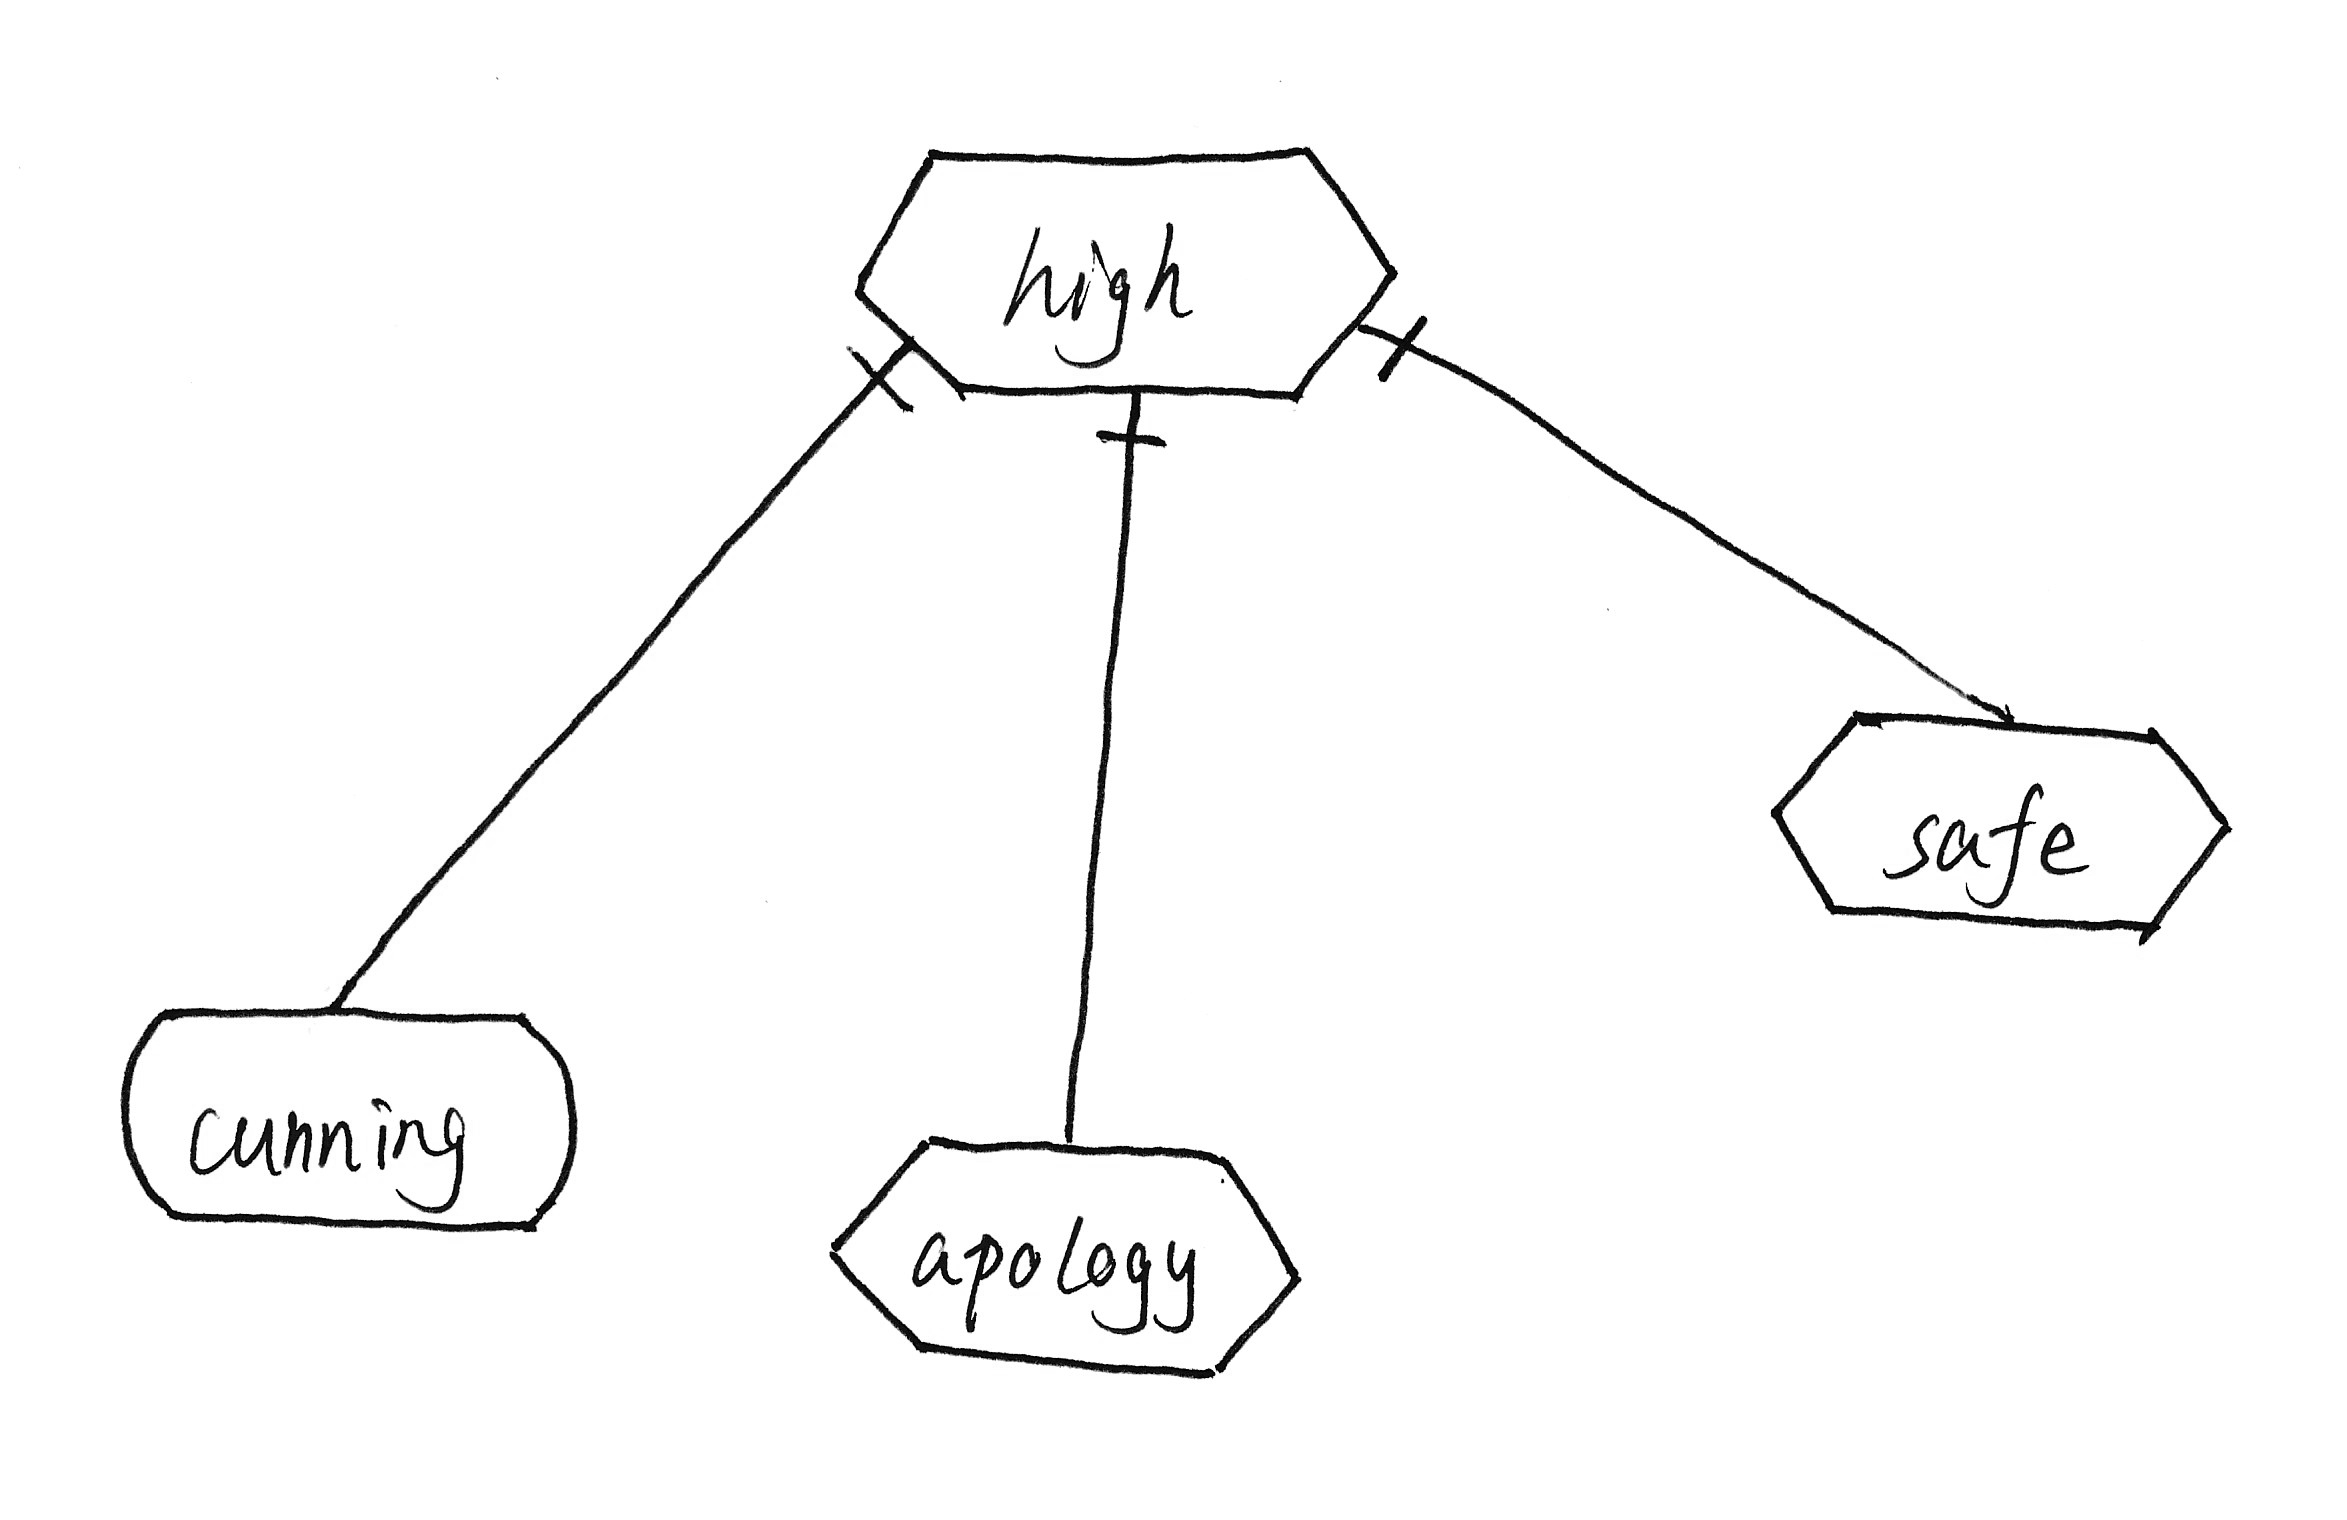and: (1083, 381, 1196, 475), (830, 327, 922, 431), (1358, 306, 1451, 393)
goal: (104, 992, 588, 1260)
task: (843, 113, 1413, 422), (811, 1115, 1322, 1404), (1759, 692, 2272, 968)
